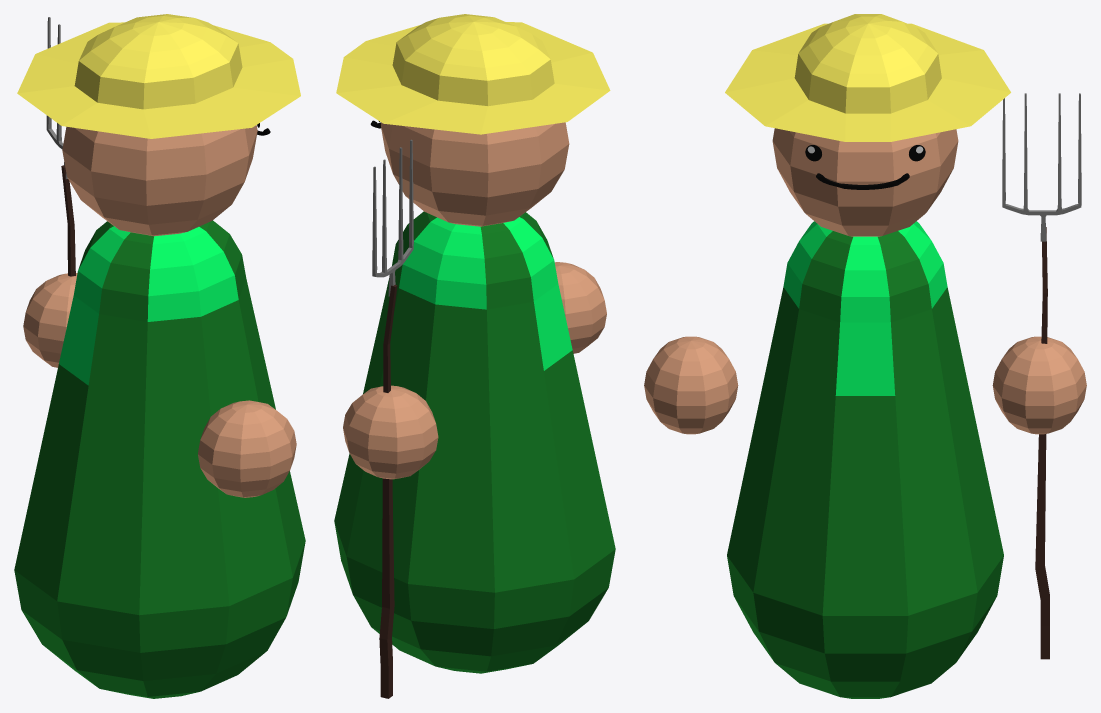
The model's file is Mesh_Char_Farmer.fbx.
The picture shows the model from 3 angles, left to right: view 1: azimuth 30°, elevation 25°; view 2: azimuth 150°, elevation 25°; view 3: azimuth 270°, elevation 25°; orthographic projection. The views are drawn at different scales.
Parts seen in each view (by area): view 1: Cube.018, Circle.009, Cube.019, Cube.020; view 2: Cube.018, Circle.009, Cube.019, Cube.020; view 3: Cube.018, Circle.009, Cube.019, Cube.020.
Part boxes in pixels (box(x1,y1,x2,y2)): Cube.018: box(14, 123, 305, 698); Circle.009: box(17, 14, 300, 138); Cube.019: box(61, 165, 75, 276); Cube.020: box(46, 17, 67, 178); Cube.018: box(334, 120, 615, 673); Circle.009: box(336, 14, 610, 134); Cube.019: box(379, 284, 397, 698); Cube.020: box(372, 139, 413, 296); Cube.018: box(644, 128, 1086, 698); Circle.009: box(725, 14, 1010, 141); Cube.019: box(1035, 227, 1049, 659); Cube.020: box(1002, 93, 1081, 241).
Size of the model in its own units: 81.97 by 209 by 127.
